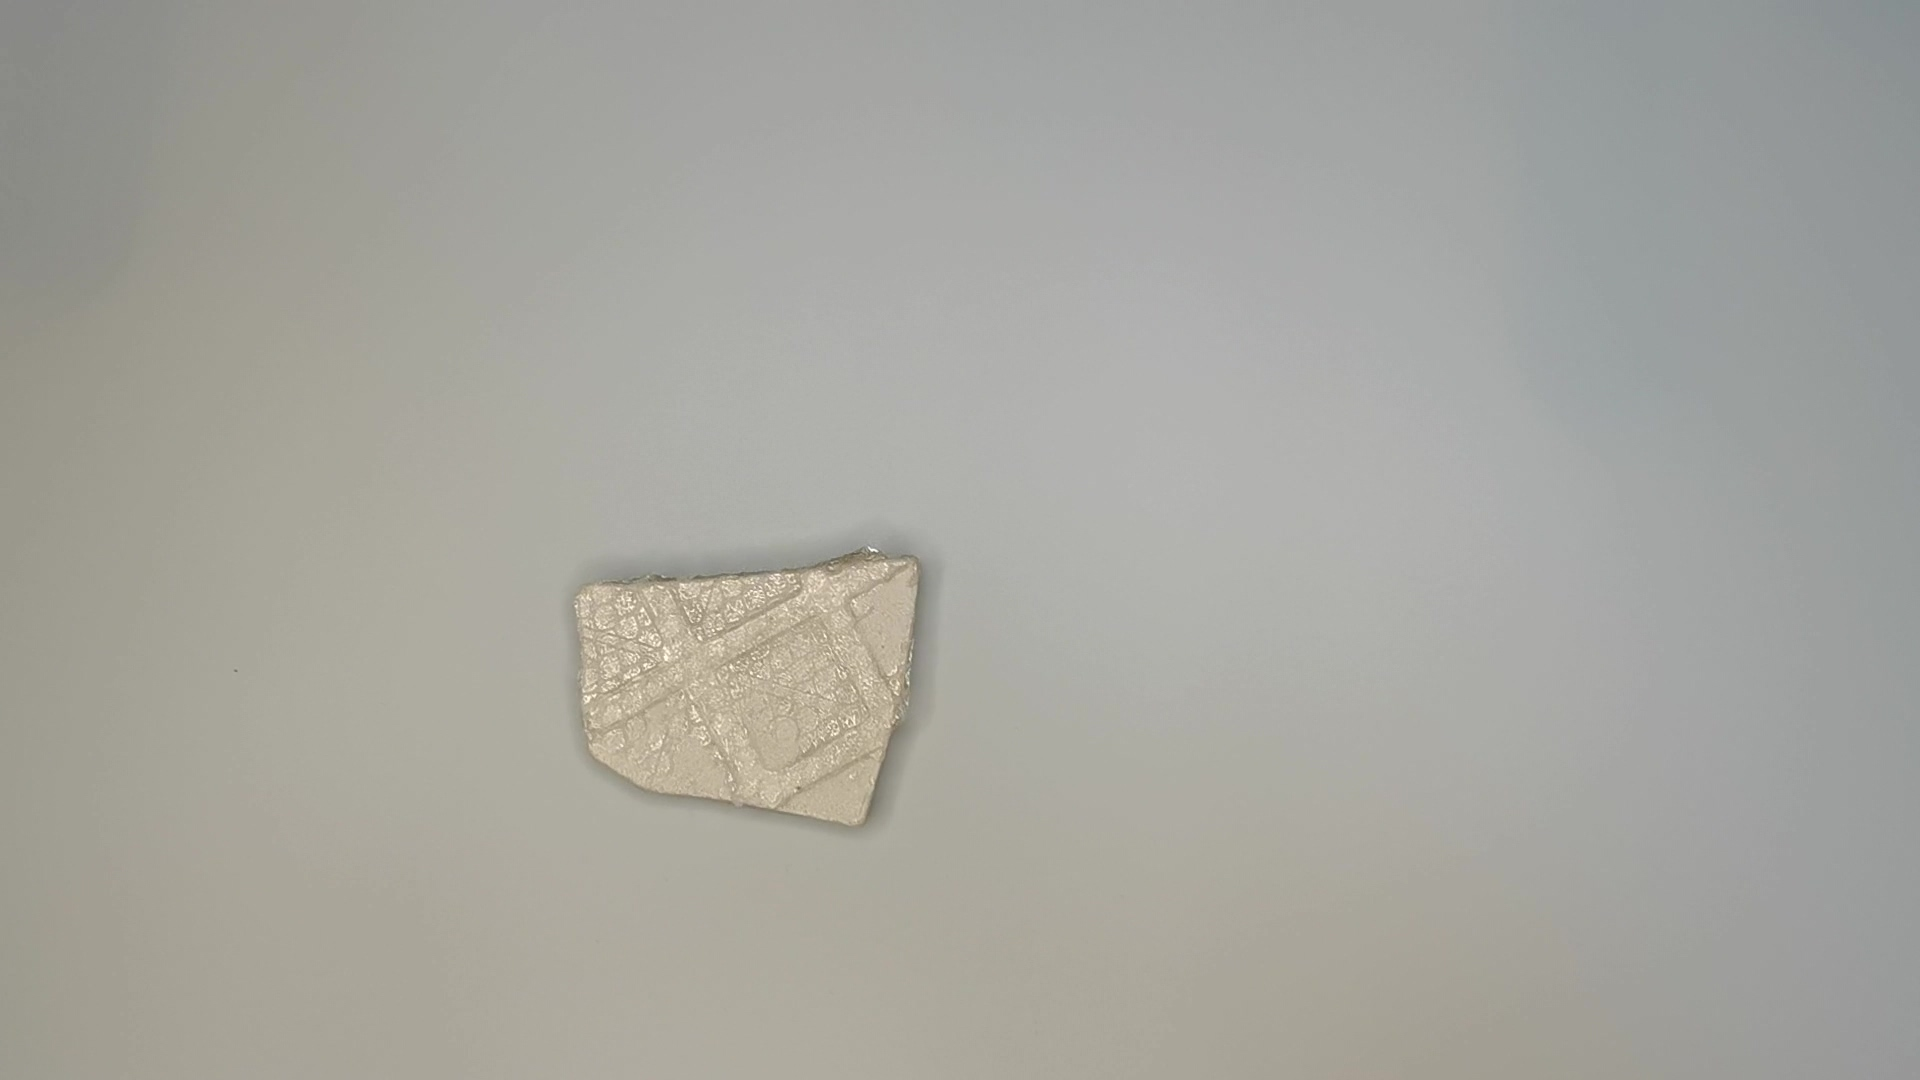ceramic: (559, 549, 930, 845)
